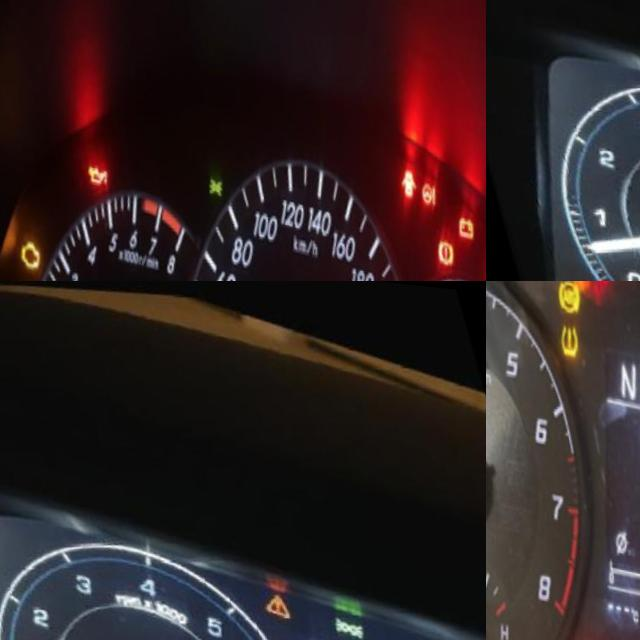Doors: (386, 154, 415, 197)
